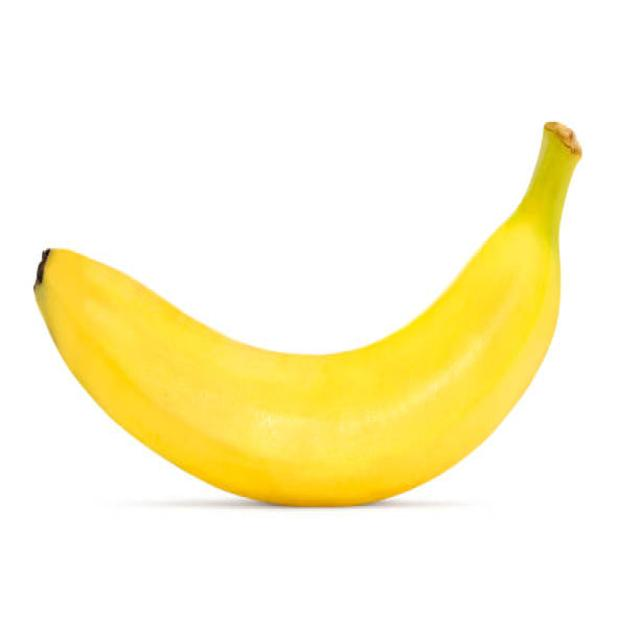Ripe: (31, 111, 582, 512)
